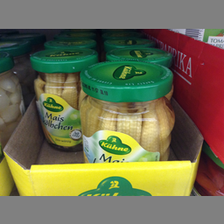corn: (82, 61, 173, 163), (31, 49, 98, 149)
